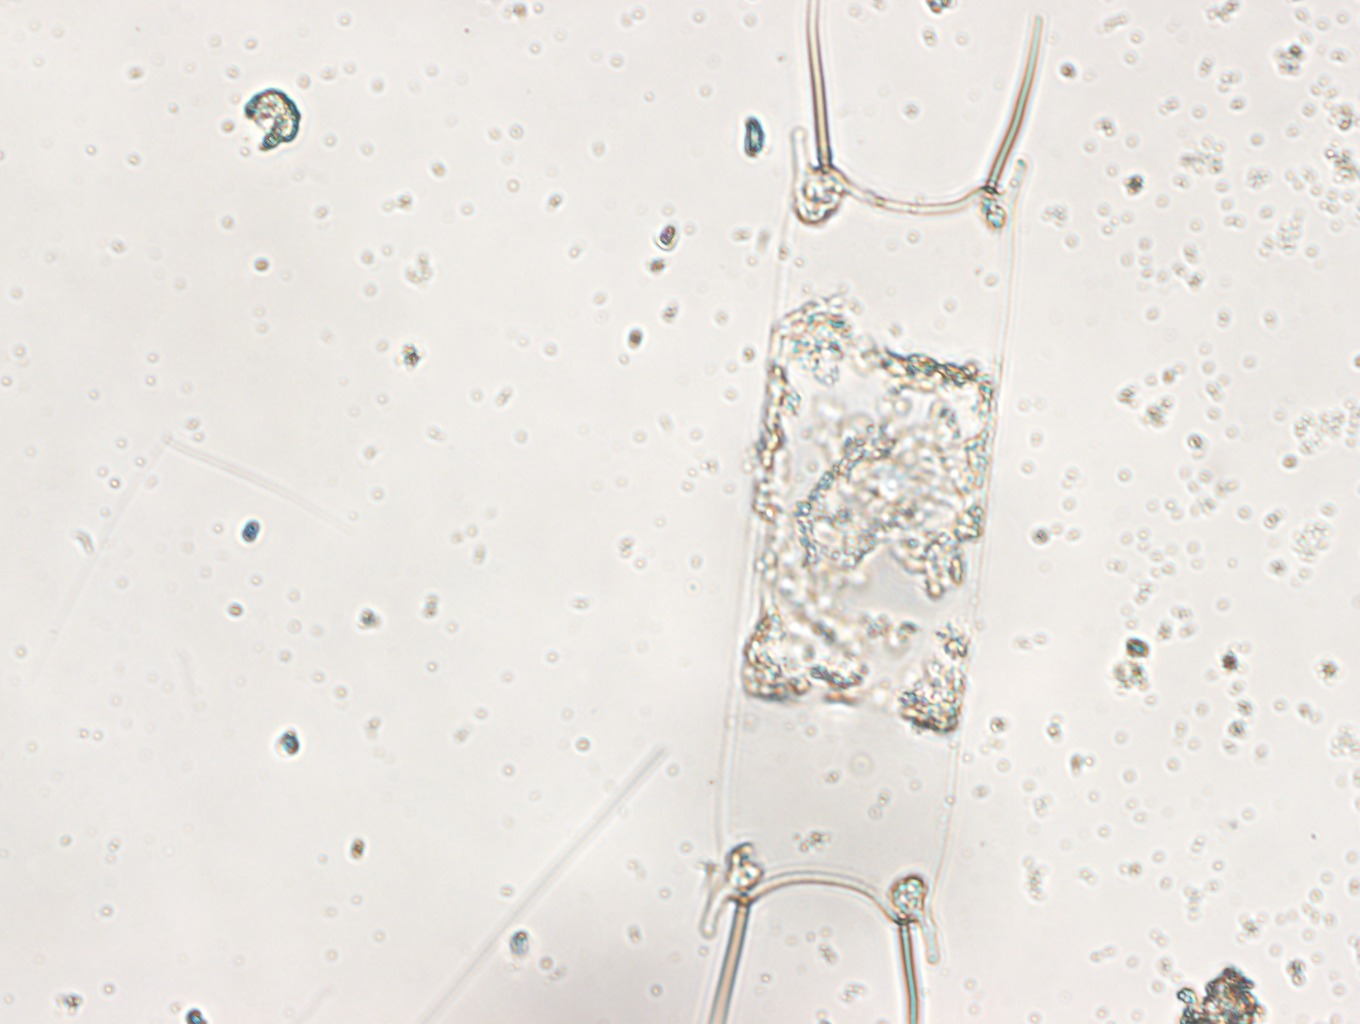biddulphia: (698, 1, 1046, 1024)
